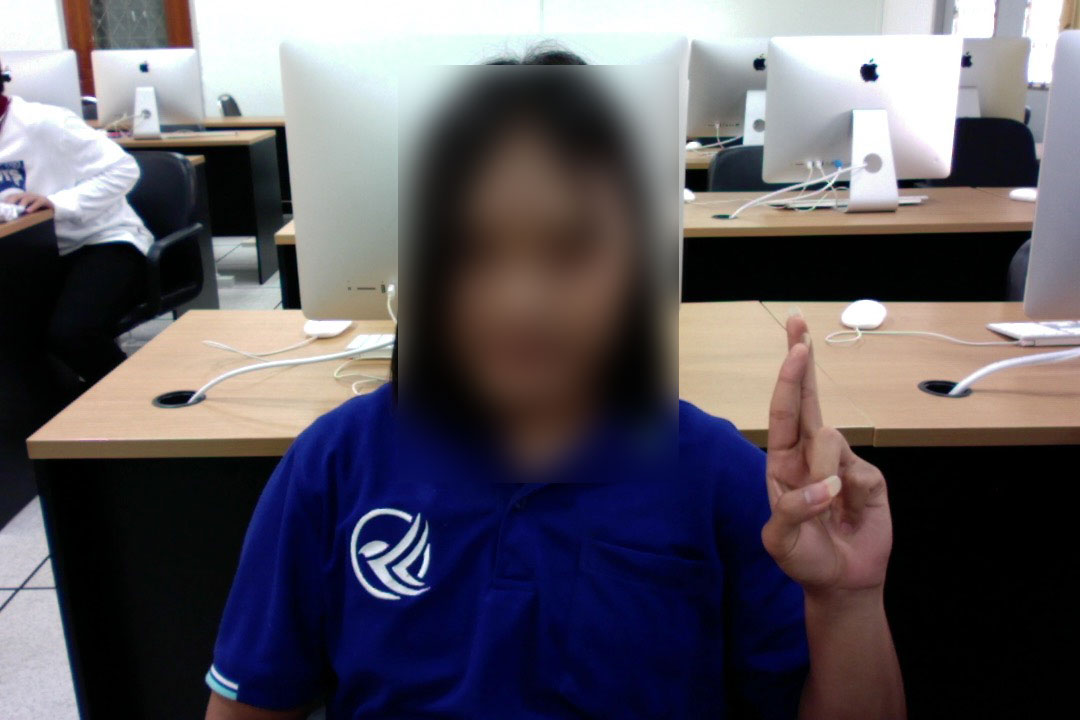rao: (730, 306, 911, 603)
